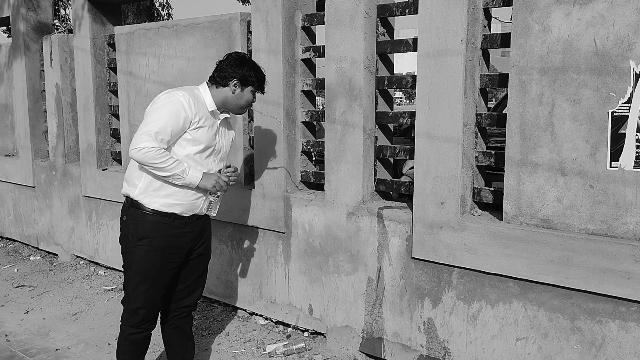spit: (170, 43, 342, 303)
